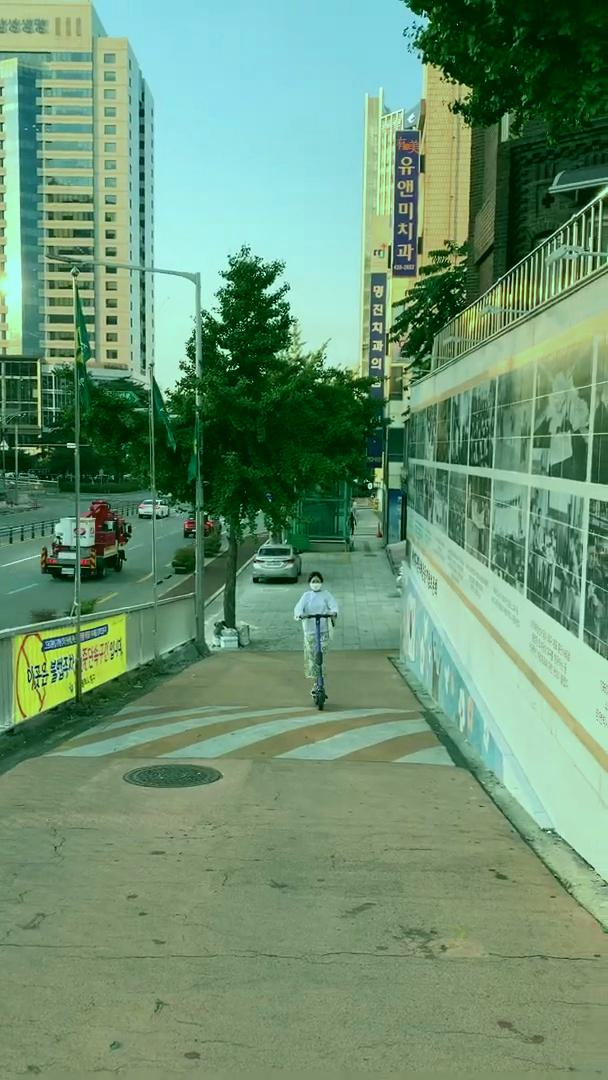nonhelmet: (292, 569, 343, 714)
